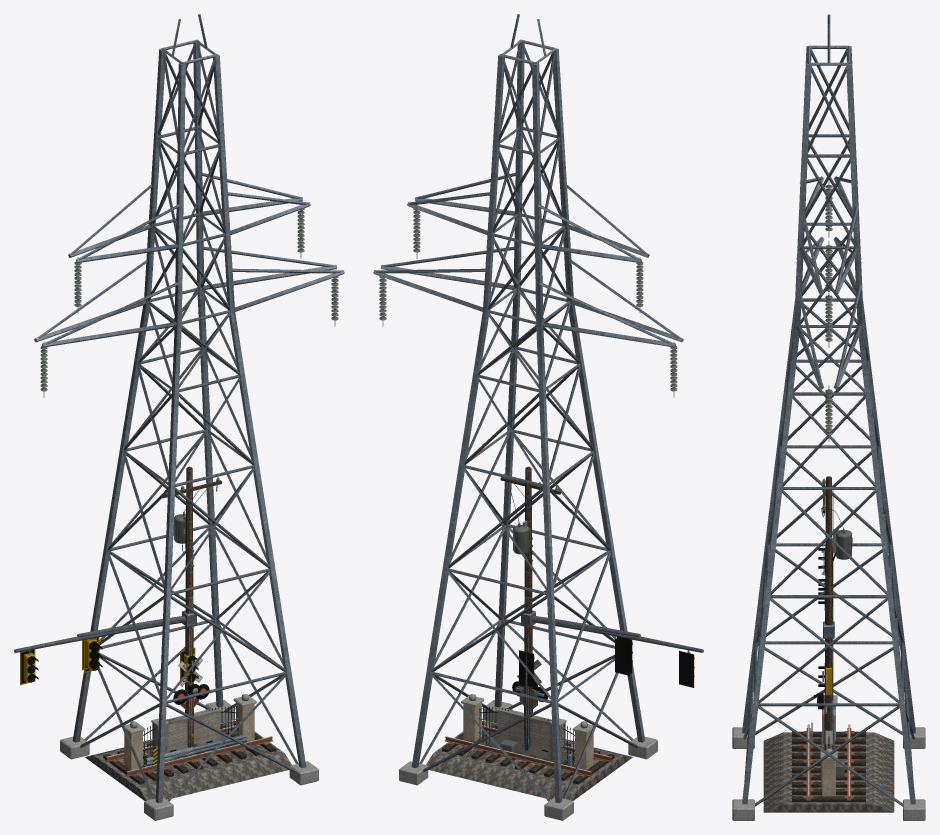
The model's file is streetkit.glb.
3 renders of one model, left to right at view 1: azimuth 30°, elevation 25°; view 2: azimuth 150°, elevation 25°; view 3: azimuth 270°, elevation 25°, orthographic.
Visible parts, largest first — view 1: sk_tower, sk_rail, sk_pole_tx, sk_gate_iron, sk_wall_cmu, sk_signal, sk_signal_s; view 2: sk_tower, sk_rail, sk_signal, sk_pole_tx, sk_gate_iron, sk_wall_cmu, sk_signal_s; view 3: sk_tower, sk_rail, sk_pole_tx, sk_gate_iron, sk_signal, sk_signal_s, sk_pole.
Boxes of the visible parts, left/top/right/bottom form: sk_tower: left=34, top=14, right=344, bottom=820; sk_rail: left=85, top=721, right=291, bottom=800; sk_pole_tx: left=162, top=466, right=221, bottom=745; sk_gate_iron: left=124, top=694, right=256, bottom=770; sk_wall_cmu: left=151, top=707, right=220, bottom=753; sk_signal: left=14, top=597, right=198, bottom=747; sk_signal_s: left=77, top=596, right=200, bottom=747; sk_tower: left=373, top=14, right=683, bottom=820; sk_rail: left=426, top=721, right=632, bottom=800; sk_signal: left=521, top=610, right=703, bottom=749; sk_pole_tx: left=501, top=466, right=558, bottom=750; sk_gate_iron: left=461, top=694, right=593, bottom=770; sk_wall_cmu: left=497, top=707, right=566, bottom=760; sk_signal_s: left=523, top=596, right=640, bottom=748; sk_tower: left=732, top=14, right=925, bottom=820; sk_rail: left=763, top=724, right=894, bottom=812; sk_pole_tx: left=821, top=476, right=852, bottom=749; sk_gate_iron: left=820, top=695, right=837, bottom=796; sk_signal: left=814, top=546, right=834, bottom=747; sk_signal_s: left=814, top=572, right=834, bottom=750; sk_pole: left=821, top=476, right=833, bottom=730.
Size of the model in its own units: 13.42 by 29.62 by 6.8.
35 materials, 30 textured.
